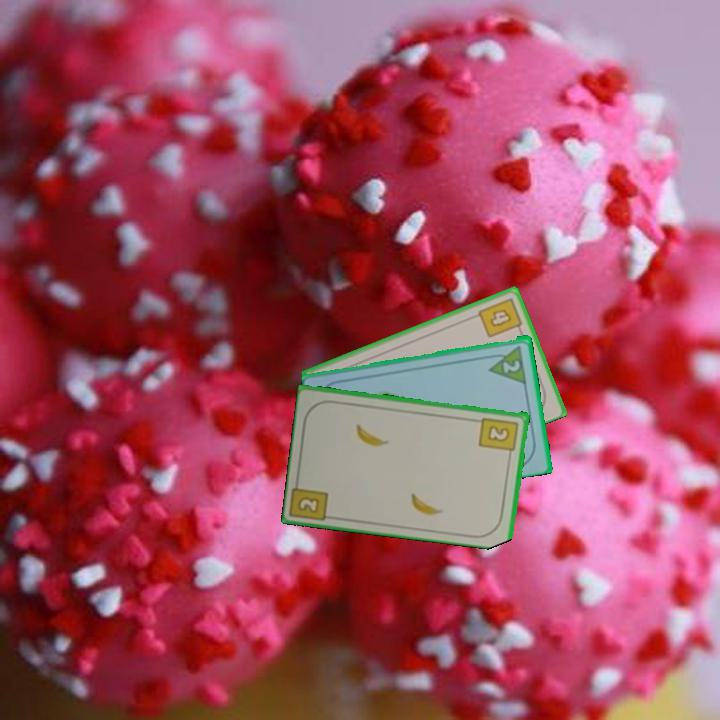2b: (476, 414, 521, 459), (294, 493, 322, 516)
2p: (484, 342, 529, 385)
4b: (475, 294, 525, 340)
